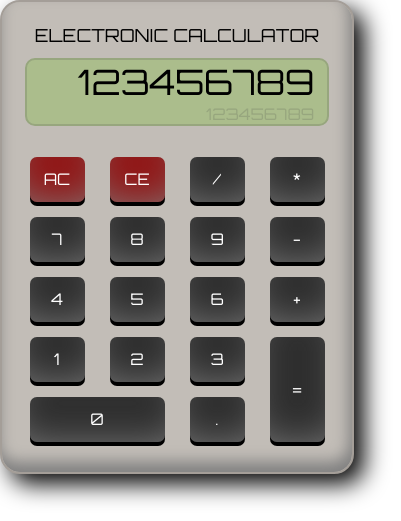
method checkLimit › renders 0 and limit if inputValue.length > 9
Expected: the text with class "Calc__input-value" reads "123456789", 78,60 -> 314,104
Expected: the text with class "Calc__expression" reads "123456789", 206,104 -> 314,124
Click the text with class "Calc__button_TR" showing "4". click: (57, 299)
box: 30,276 -> 84,322
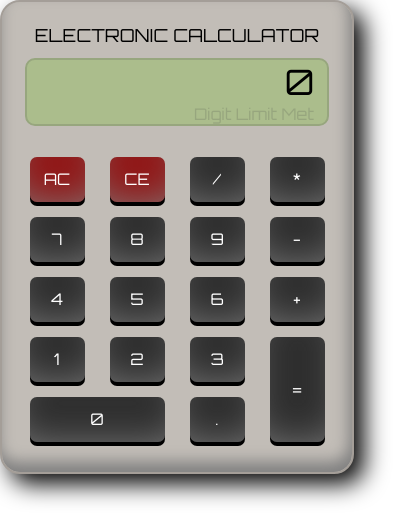
Expected: the text with class "Calc__expression" reads "Digit Limit Met", 194,104 -> 314,124
Now the text with class "Calc__input-value" reads "0", box 285,60 -> 314,104
